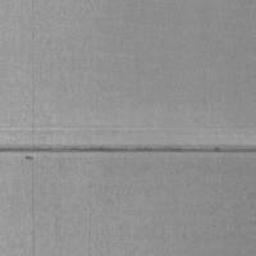Welding line: (0, 145, 256, 155)
